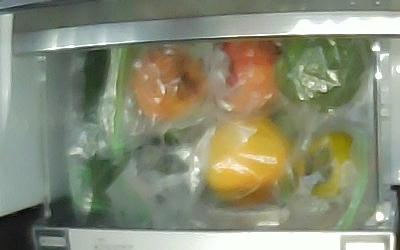apple_vinyl: (217, 39, 281, 115)
broccoli_vinyl: (275, 37, 365, 113)
cucumber_vinyl: (81, 49, 112, 214)
grapefruit_vinyl: (205, 117, 290, 207)
peach_vinyl: (132, 48, 210, 118)
persimmon_vinyl: (297, 130, 353, 199)
